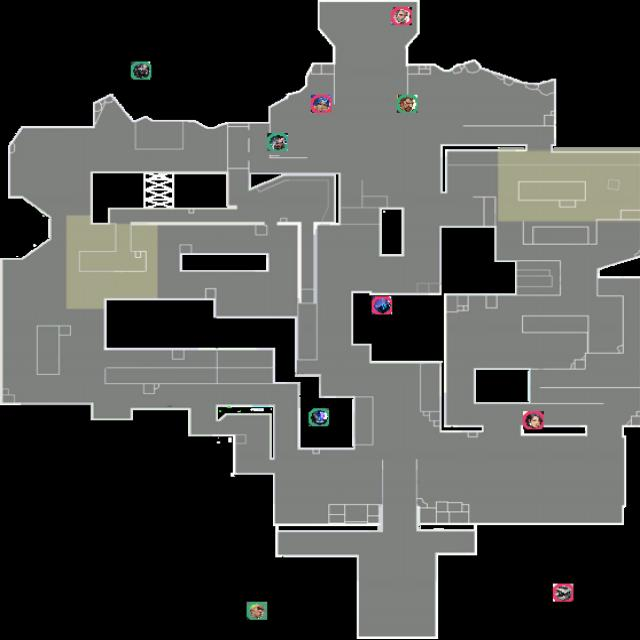atk_cypher: (553, 584, 573, 602)
atk_neon: (311, 95, 331, 113)
atk_omen: (372, 296, 392, 314)
atk_sage: (523, 412, 544, 429)
atk_sova: (391, 7, 412, 25)
def_breach: (397, 95, 417, 113)
def_fade: (267, 133, 288, 151)
def_gekko: (247, 602, 267, 620)
def_kayo: (309, 408, 329, 426)
def_viper: (131, 61, 151, 80)
